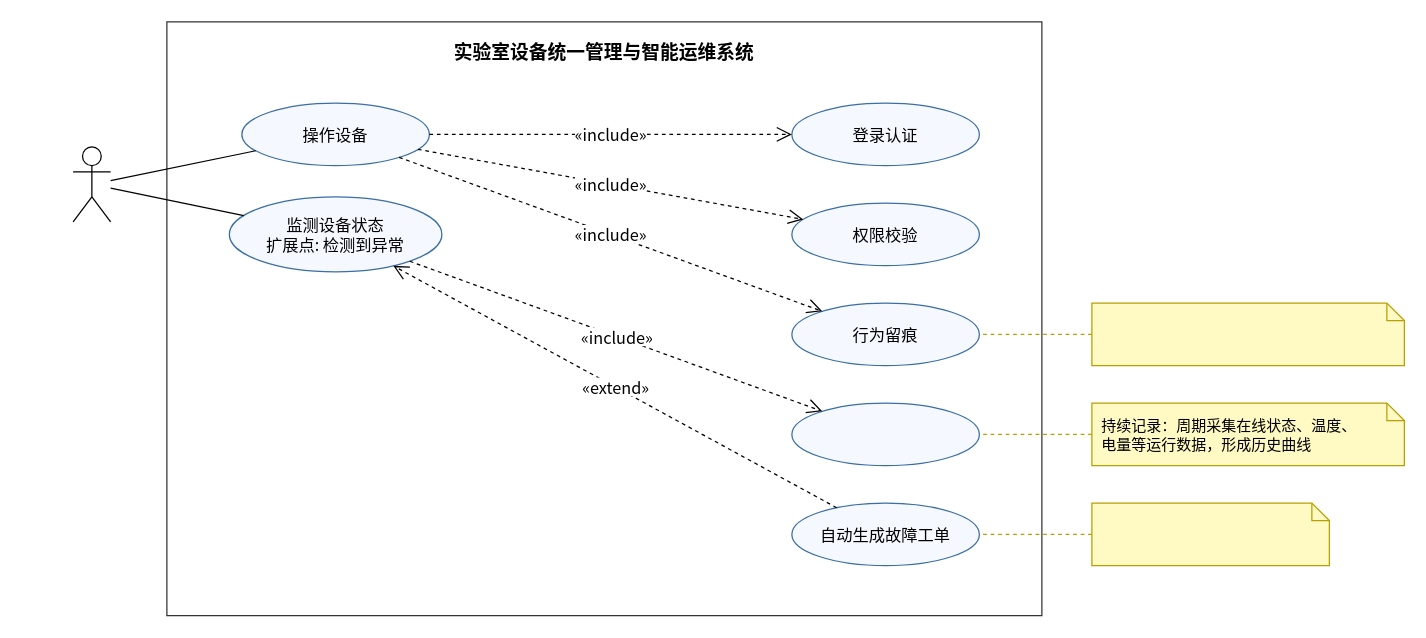
The diagram is 1426 pixels wide and 638 high, and some of its shapes have lost their labels. The shapes that lost their labels are listed below. From the top down, each one's centre as x and y in pixels, then its label:
the point at 91,184: 异构设备 (USB/蓝牙/Zigbee)
the point at 1247,334: 行为留痕：记录谁、何时、对哪台设备、 做了什么、结果如何；日志只追加不可改
the point at 885,434: 持续记录运行数据
the point at 1210,534: 扩展点: 检测到异常 条件: 监测到设备状态异常
